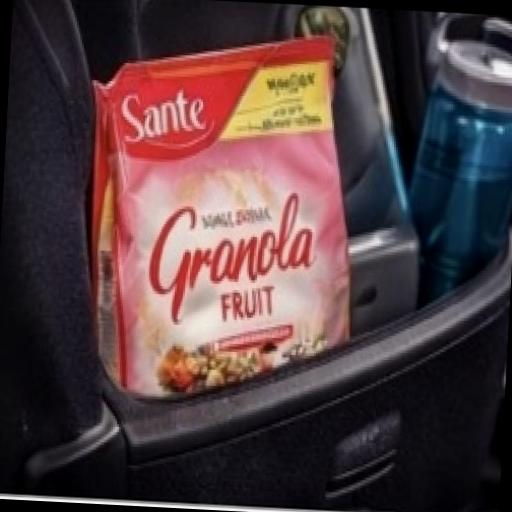granola: (30, 18, 391, 428)
